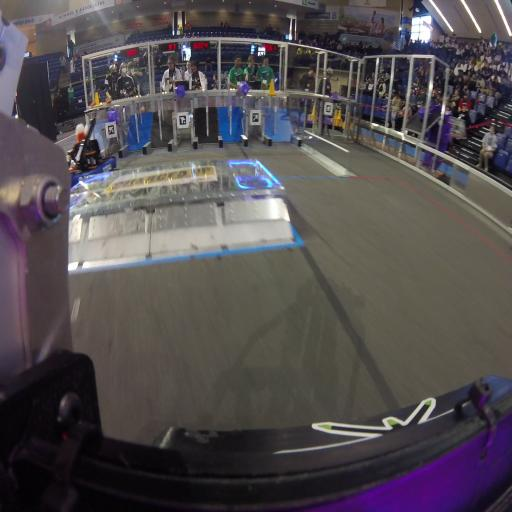robot: (62, 136, 112, 183)
